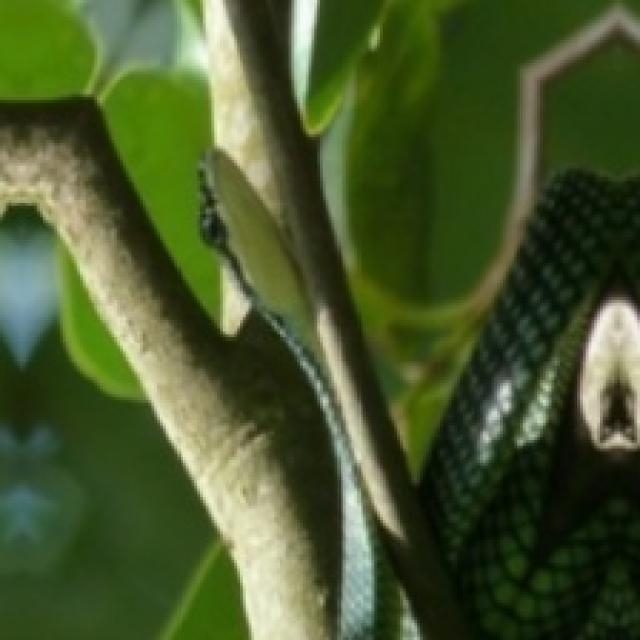paradise tree snake: (190, 149, 420, 639), (420, 171, 637, 637)
